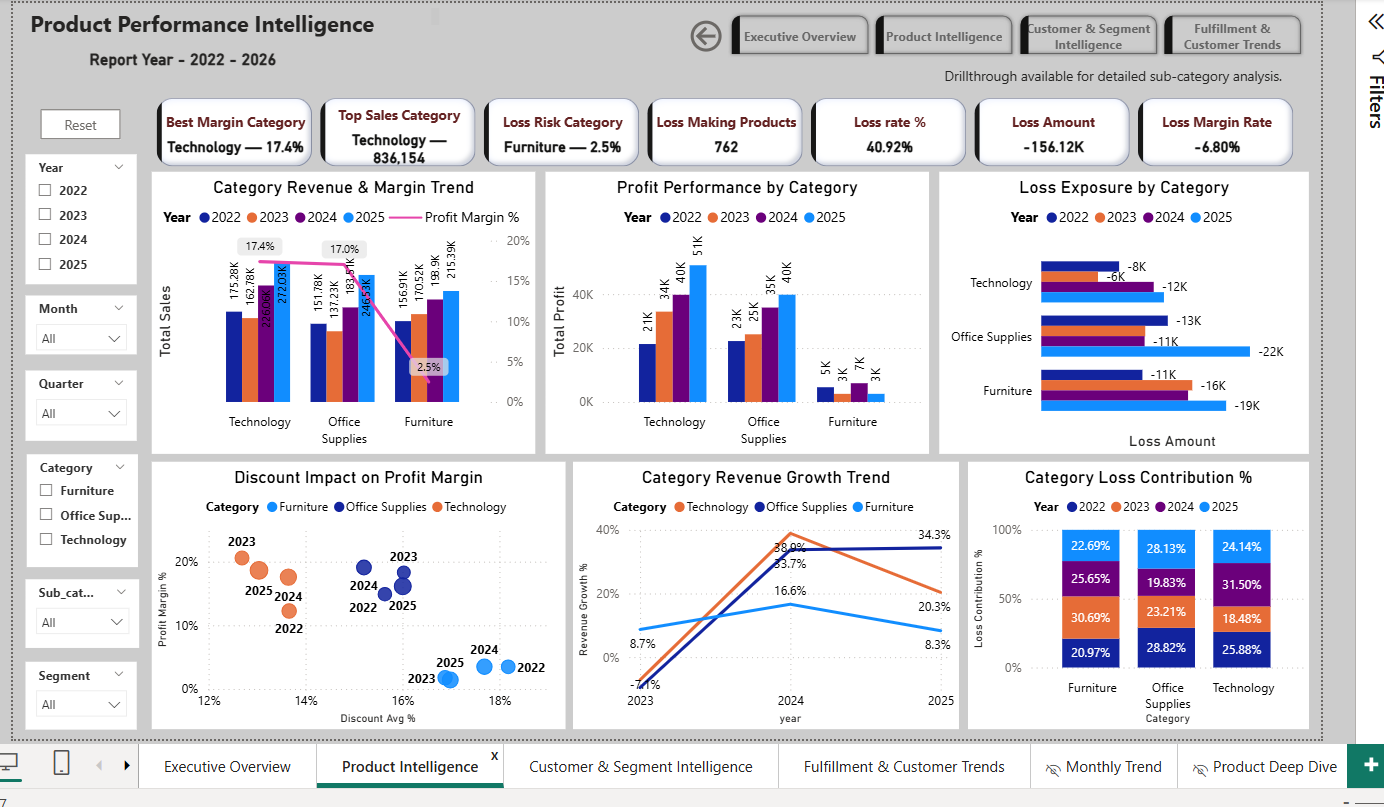

What the dashboard file says about the page in this screenshot:
{"tool":"powerbi","page":{"name":"Product Intelligence","canvas":[1280,720],"ordinal":1},"visuals":[{"type":"textbox","box":[12.2,0,409.6,37.9],"z":0},{"type":"card","fields":{"Values":["_Measure_customerKPI.Dynamic Year Title"]},"box":[46.5,37.9,239.7,36.7],"z":1000},{"type":"cardVisual","fields":{"Data":["_Measure_productKPIs.Best Margin Category","_Measure_productKPIs.Highest Sales Category","_Measure_productKPIs.Loss Risk Category","_Measure_productKPIs.Loss Products","_Measure_productKPIs.Loss Product %","_Measure_productKPIs.Loss Amount","_Measures_Financial.Loss Margin %"]},"box":[135.7,88,1128.7,77],"z":2000},{"type":"slicer","fields":{"Values":["sales_analytics date_dim.year"]},"box":[12.2,148,108.8,127.2],"z":3000},{"type":"slicer","fields":{"Values":["sales_analytics date_dim.month_name"]},"box":[12,286.1,108.8,57.5],"z":4000},{"type":"slicer","fields":{"Values":["Customer.segment"]},"box":[12.2,644.4,108.8,66],"z":5000},{"type":"slicer","fields":{"Values":["Product.Category"]},"box":[13.5,441.4,108.8,110.1],"z":6000},{"type":"slicer","fields":{"Values":["Date_Table.Quarter"]},"box":[12,359.5,108.8,68.5],"z":7000},{"type":"slicer","fields":{"Values":["Product.Sub_category"]},"box":[12.2,563.7,111.3,67.3],"z":8000},{"type":"scatterChart","title":"Discount Impact on Profit Margin","fields":{"X":["_Measures_Financial.Discount Avg %"],"Series":["sales_analytics product_dim.Category"],"Category":["Date_Table.Year"],"Y":["_Measures_Financial.Profit Margin %"],"Size":["All_Basic_Measures.Total Sales"]},"box":[135.7,448.8,404.8,261.7],"z":9000},{"type":"clusteredBarChart","title":"Loss Exposure by Category","fields":{"Category":["Product.Category"],"Series":["Date.year"],"Y":["_Measure_productKPIs.Loss Amount"]},"box":[906.1,165.1,362,276.4],"z":10000},{"type":"lineChart","title":"Category Revenue Growth Trend","fields":{"Y":["_Measures_Financial.Revenue Growth %"],"Category":["Date.year"],"Series":["Product.Category"]},"box":[547.8,448.8,377.9,261.7],"z":11000},{"type":"hundredPercentStackedColumnChart","title":"Category Loss Contribution %","fields":{"Category":["Product.Category"],"Y":["_Measures_Financial.Loss Contribution %"],"Series":["Date.year"]},"box":[934.2,448.8,333.8,261.7],"z":12000},{"type":"actionButton","box":[657.9,12.2,58.7,40.4],"z":13000},{"type":"lineClusteredColumnComboChart","title":"Category Revenue & Margin Trend","fields":{"Category":["Product.Category"],"Series":["Date.year"],"Y":["All_Basic_Measures.Total Sales"],"Y2":["_Measures_Financial.Profit Margin %"]},"box":[135.7,165.1,375.4,276.4],"z":14000},{"type":"clusteredColumnChart","title":"Profit Performance by Category","fields":{"Y":["All_Basic_Measures.Total Profit"],"Category":["Product.Category"],"Series":["Date.year"]},"box":[520.9,165.1,375.4,276.4],"z":15000},{"type":"textbox","box":[906.1,57.5,352.2,30.6],"z":16000},{"type":"pageNavigator","box":[699.5,8.6,564.9,45.2],"z":17000},{"type":"actionButton","box":[26.9,103.9,78.3,29.3],"z":18000}]}

Visuals, with their boxes on the page's 1280x720 design canvas (x1, y1, x2, y2). These are canvas units, not pixel positions in the 1384x807 screenshot, which may show the page scaled, cropped or inside an application window:
textbox: detection(12, 0, 422, 38)
card - _Measure_customerKPI.Dynamic Year Title: detection(46, 38, 286, 75)
cardVisual - _Measure_productKPIs.Best Margin Category x _Measure_productKPIs.Highest Sales Category: detection(136, 88, 1264, 165)
slicer - sales_analytics date_dim.year: detection(12, 148, 121, 275)
slicer - sales_analytics date_dim.month_name: detection(12, 286, 121, 344)
slicer - Customer.segment: detection(12, 644, 121, 710)
slicer - Product.Category: detection(14, 441, 122, 552)
slicer - Date_Table.Quarter: detection(12, 360, 121, 428)
slicer - Product.Sub_category: detection(12, 564, 124, 631)
"Discount Impact on Profit Margin" scatterChart: detection(136, 449, 540, 710)
"Loss Exposure by Category" clusteredBarChart: detection(906, 165, 1268, 442)
"Category Revenue Growth Trend" lineChart: detection(548, 449, 926, 710)
"Category Loss Contribution %" hundredPercentStackedColumnChart: detection(934, 449, 1268, 710)
actionButton: detection(658, 12, 717, 53)
"Category Revenue & Margin Trend" lineClusteredColumnComboChart: detection(136, 165, 511, 442)
"Profit Performance by Category" clusteredColumnChart: detection(521, 165, 896, 442)
textbox: detection(906, 58, 1258, 88)
pageNavigator: detection(700, 9, 1264, 54)
actionButton: detection(27, 104, 105, 133)
